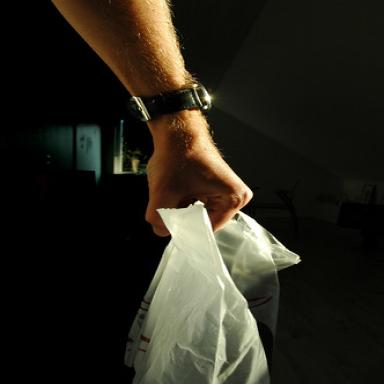plasticbag: (114, 199, 304, 383)
